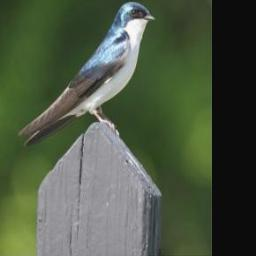Swallow: (18, 1, 156, 148)
